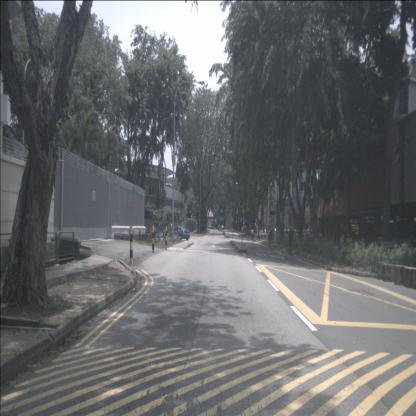human-pedestrian-adult: (288, 228, 292, 256), (291, 227, 295, 242), (285, 227, 288, 246), (250, 228, 254, 241), (274, 226, 277, 240), (263, 228, 266, 240), (261, 228, 263, 240)
vehicle-car: (170, 225, 190, 241)
